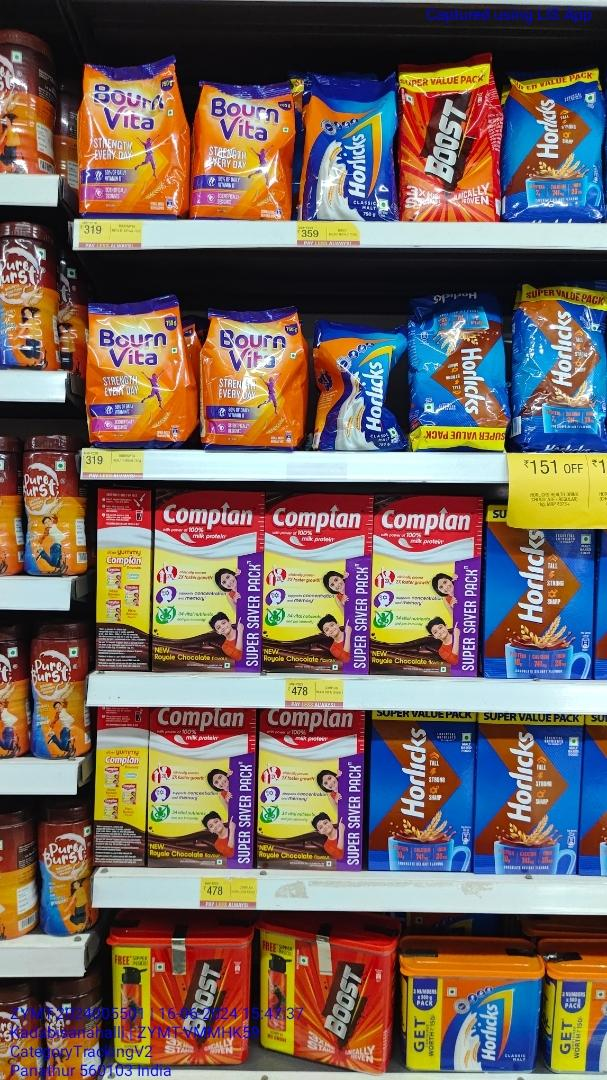BOURN_VITA_750_G_POUCH: (88, 301, 190, 448), (193, 73, 292, 221), (82, 59, 176, 214), (200, 310, 297, 449)
COMPLAN_CHOCOLATE_1_KG_PACK: (152, 486, 261, 670), (265, 493, 368, 674), (372, 497, 475, 675), (148, 707, 254, 866), (259, 710, 363, 870), (475, 714, 578, 875), (369, 712, 472, 871)
HORLICK_CHOCOLATE_1_KG_PACK: (484, 532, 593, 679)
HORLICK_CHOCOLATE_750_G_POUCH: (506, 71, 607, 223), (516, 283, 607, 450)
HORLICK_MALT_1_KG_CONTAINER: (401, 961, 539, 1071)
